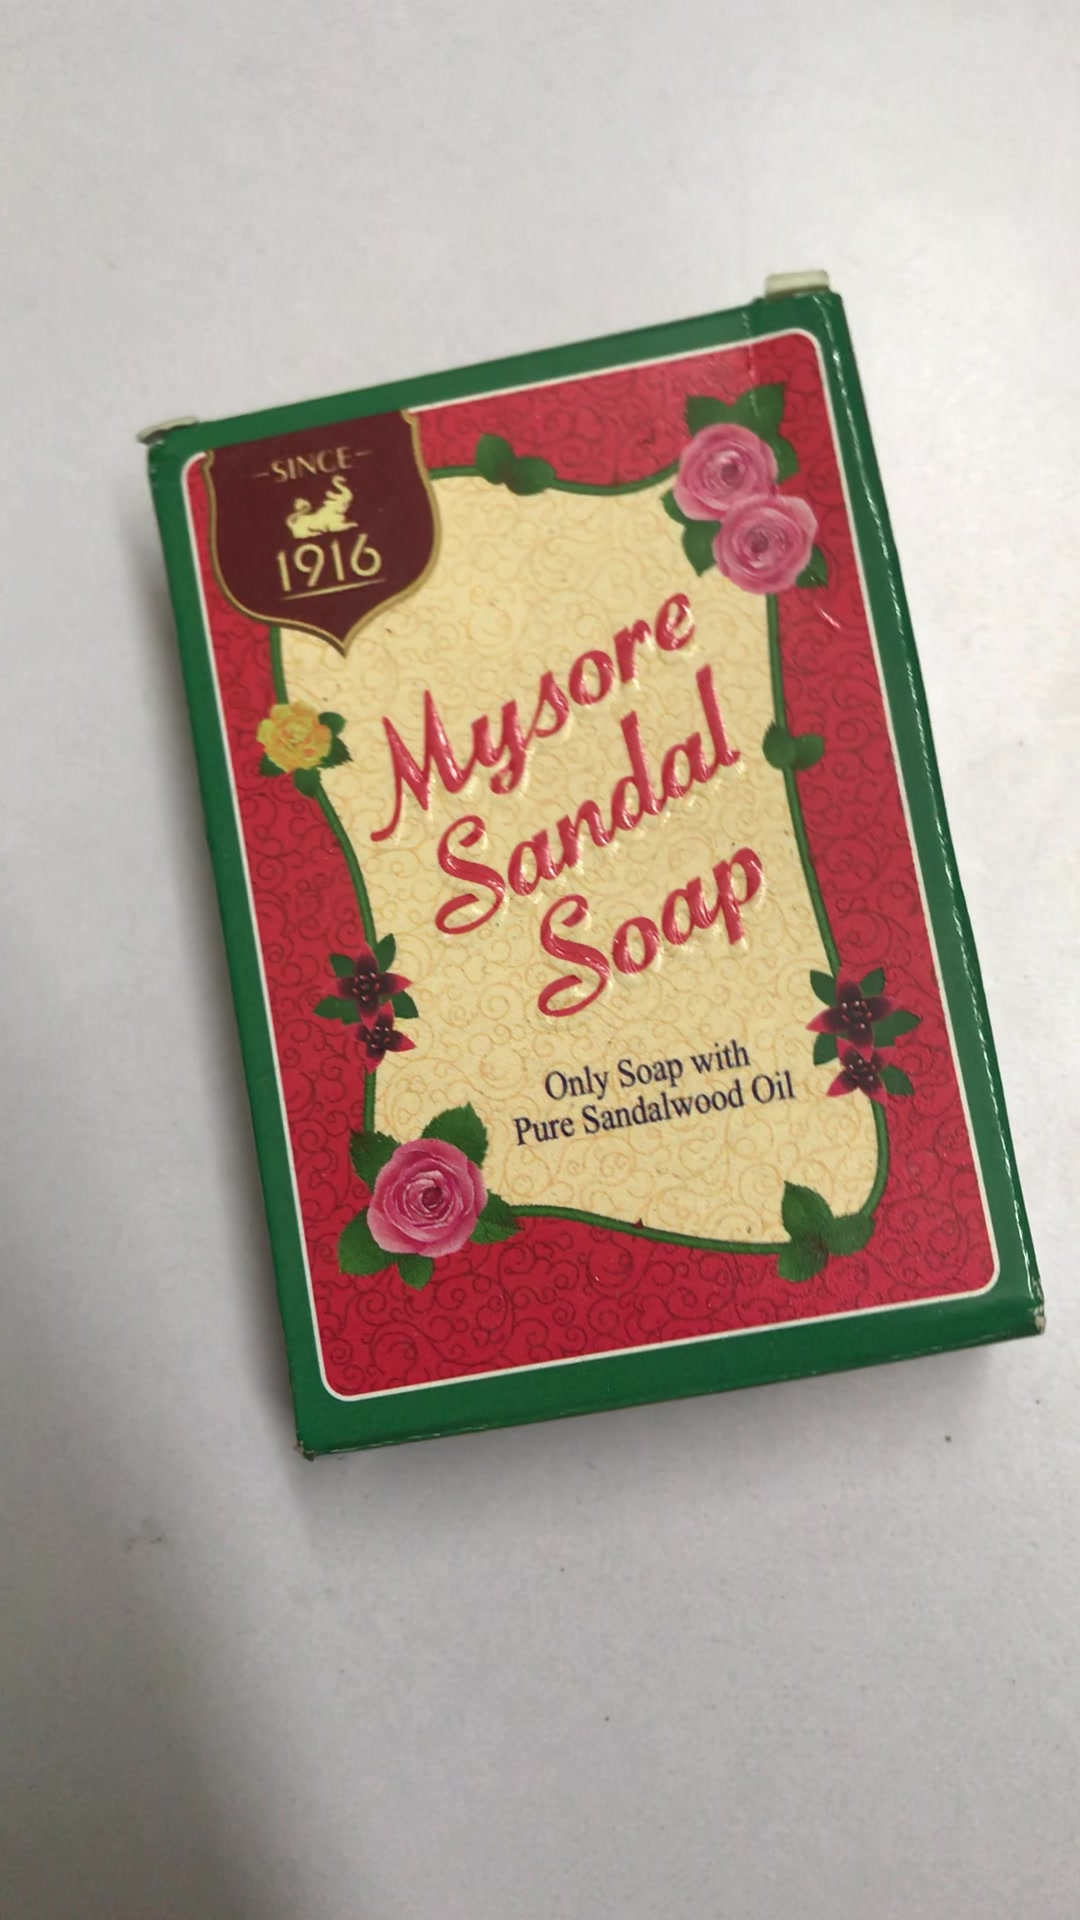mysore sandal soap: (138, 281, 1043, 1458)
